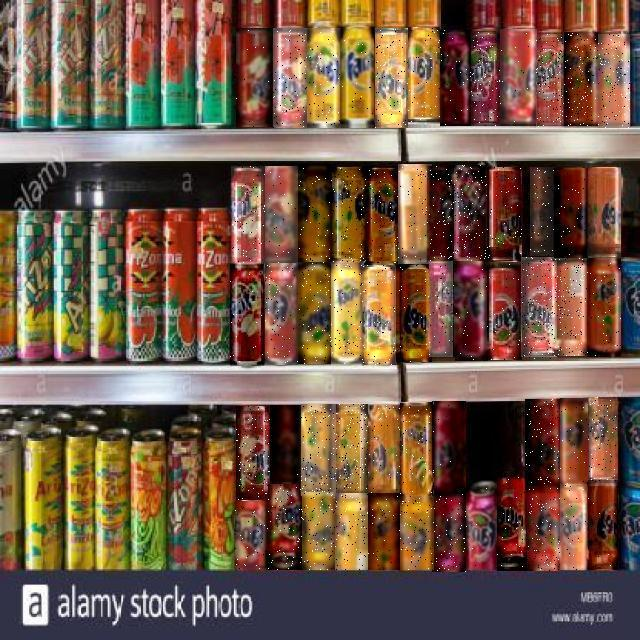Drinks: (521, 258, 557, 360), (237, 28, 273, 127), (500, 30, 537, 126), (332, 262, 366, 366), (231, 265, 265, 367), (266, 263, 300, 365), (366, 263, 400, 365), (231, 166, 266, 265), (273, 29, 307, 129), (307, 29, 341, 129), (341, 28, 375, 128), (399, 164, 433, 264), (456, 261, 490, 361), (525, 399, 561, 493), (299, 262, 332, 364), (366, 166, 400, 265), (587, 258, 621, 357), (399, 264, 433, 362), (489, 262, 523, 360), (400, 402, 434, 500), (375, 29, 408, 129), (266, 166, 300, 263), (432, 401, 466, 497), (332, 168, 366, 264), (456, 165, 490, 261), (299, 164, 332, 262), (408, 28, 440, 128), (564, 32, 598, 126), (489, 167, 523, 261), (236, 406, 270, 500), (334, 404, 368, 498), (302, 404, 336, 496), (587, 167, 621, 258), (554, 168, 588, 258), (557, 258, 588, 356), (598, 34, 630, 128), (440, 31, 471, 127), (368, 405, 400, 498), (269, 484, 303, 570), (497, 477, 528, 571), (470, 32, 501, 126), (527, 486, 561, 571), (466, 479, 497, 570), (587, 482, 618, 570), (428, 166, 456, 262), (432, 494, 466, 572), (588, 398, 618, 486), (536, 34, 564, 128), (302, 492, 335, 570), (335, 493, 368, 570), (400, 496, 434, 570), (430, 261, 456, 357), (270, 406, 302, 484), (560, 398, 588, 487), (368, 493, 400, 570), (560, 484, 588, 570), (236, 502, 270, 570), (530, 167, 555, 256)
